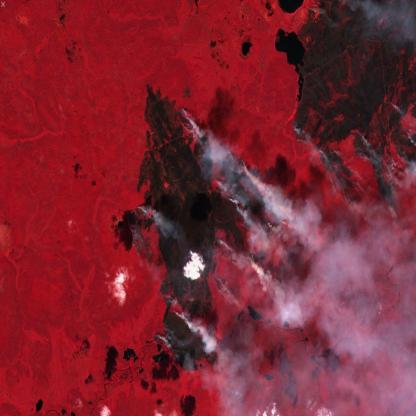fire: (124, 105, 280, 359), (289, 101, 416, 207)
